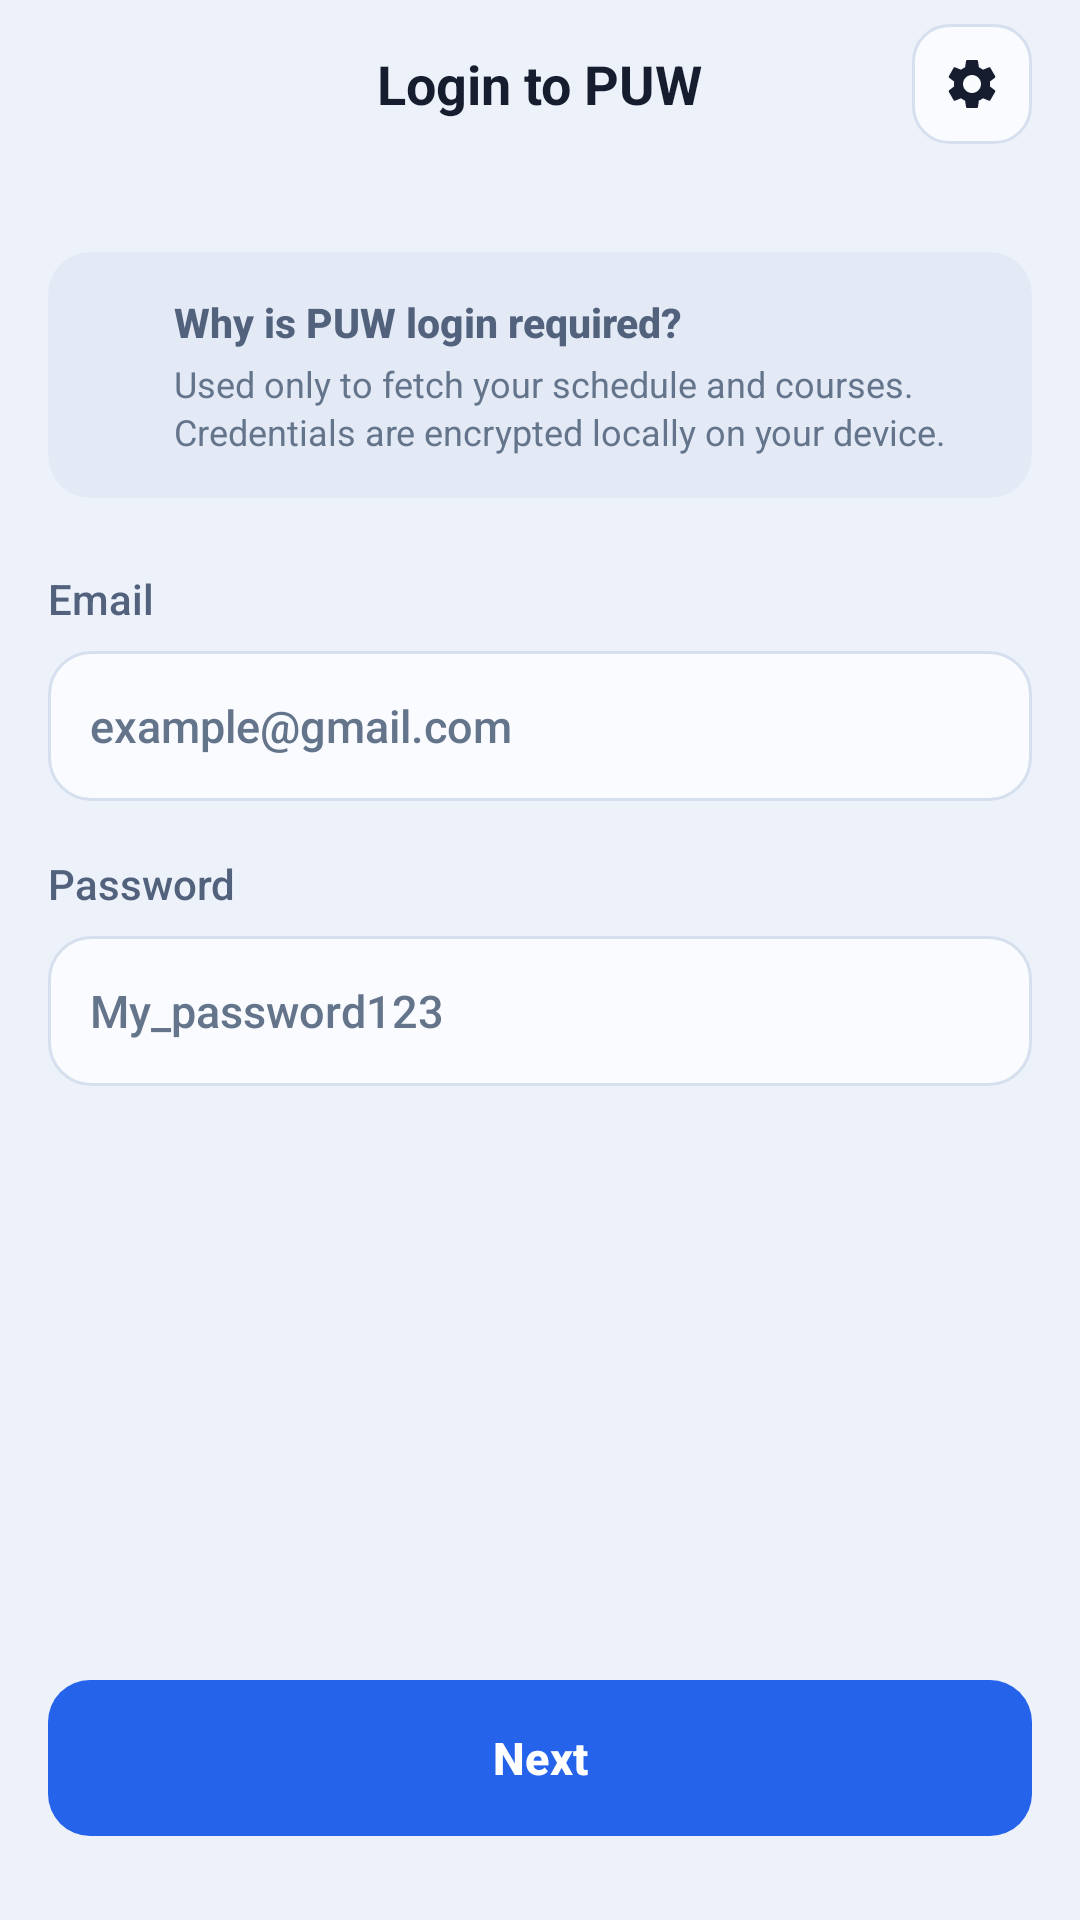

Screen size 1080*1920. Icon name, then its center in pixels as (x=x, y=y):
Settings: (x=972, y=84)
